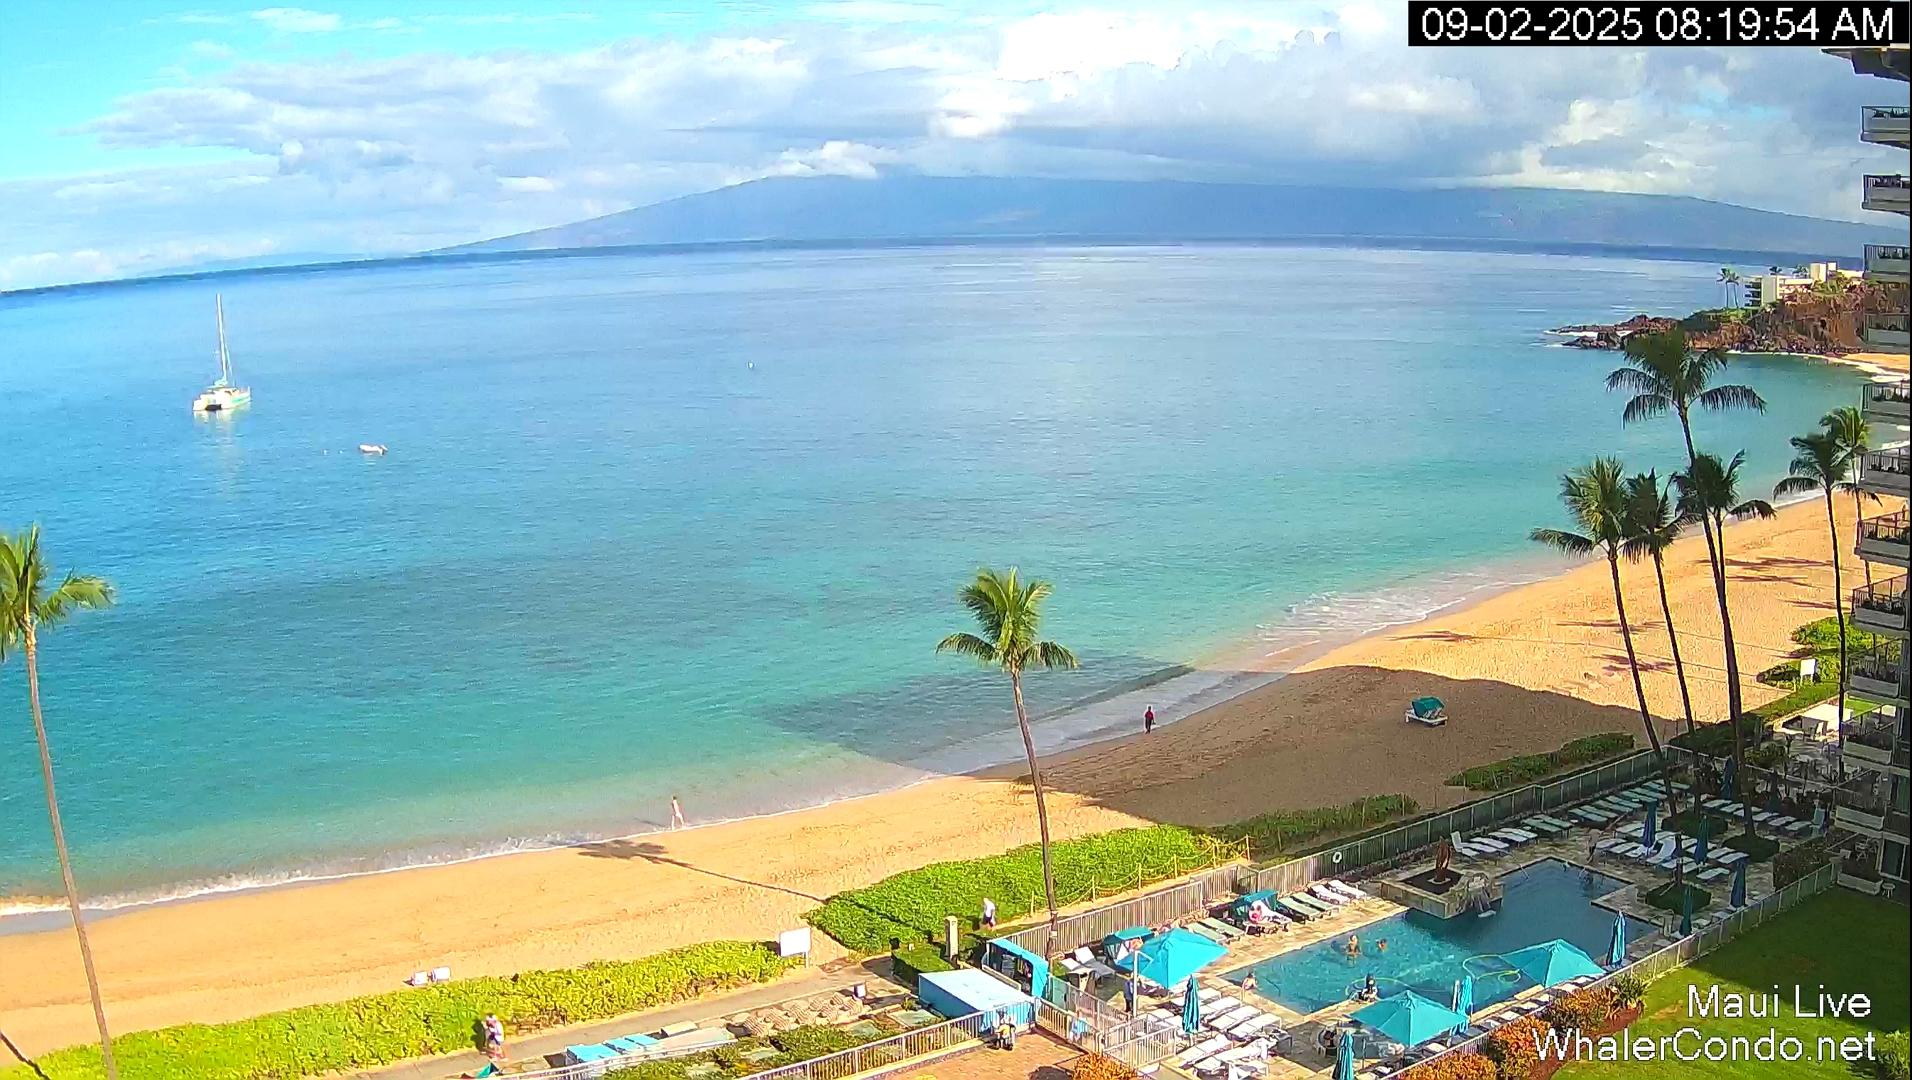boat: (192, 294, 252, 412), (359, 441, 389, 458)
person: (1580, 823, 1611, 867), (486, 1013, 506, 1060), (1241, 973, 1258, 1006), (981, 897, 996, 930), (670, 795, 684, 830), (1345, 935, 1360, 964), (1250, 906, 1271, 926), (1322, 1023, 1338, 1047), (1124, 978, 1134, 1014), (1144, 706, 1156, 734), (1558, 1032, 1566, 1050), (1376, 938, 1387, 951)
